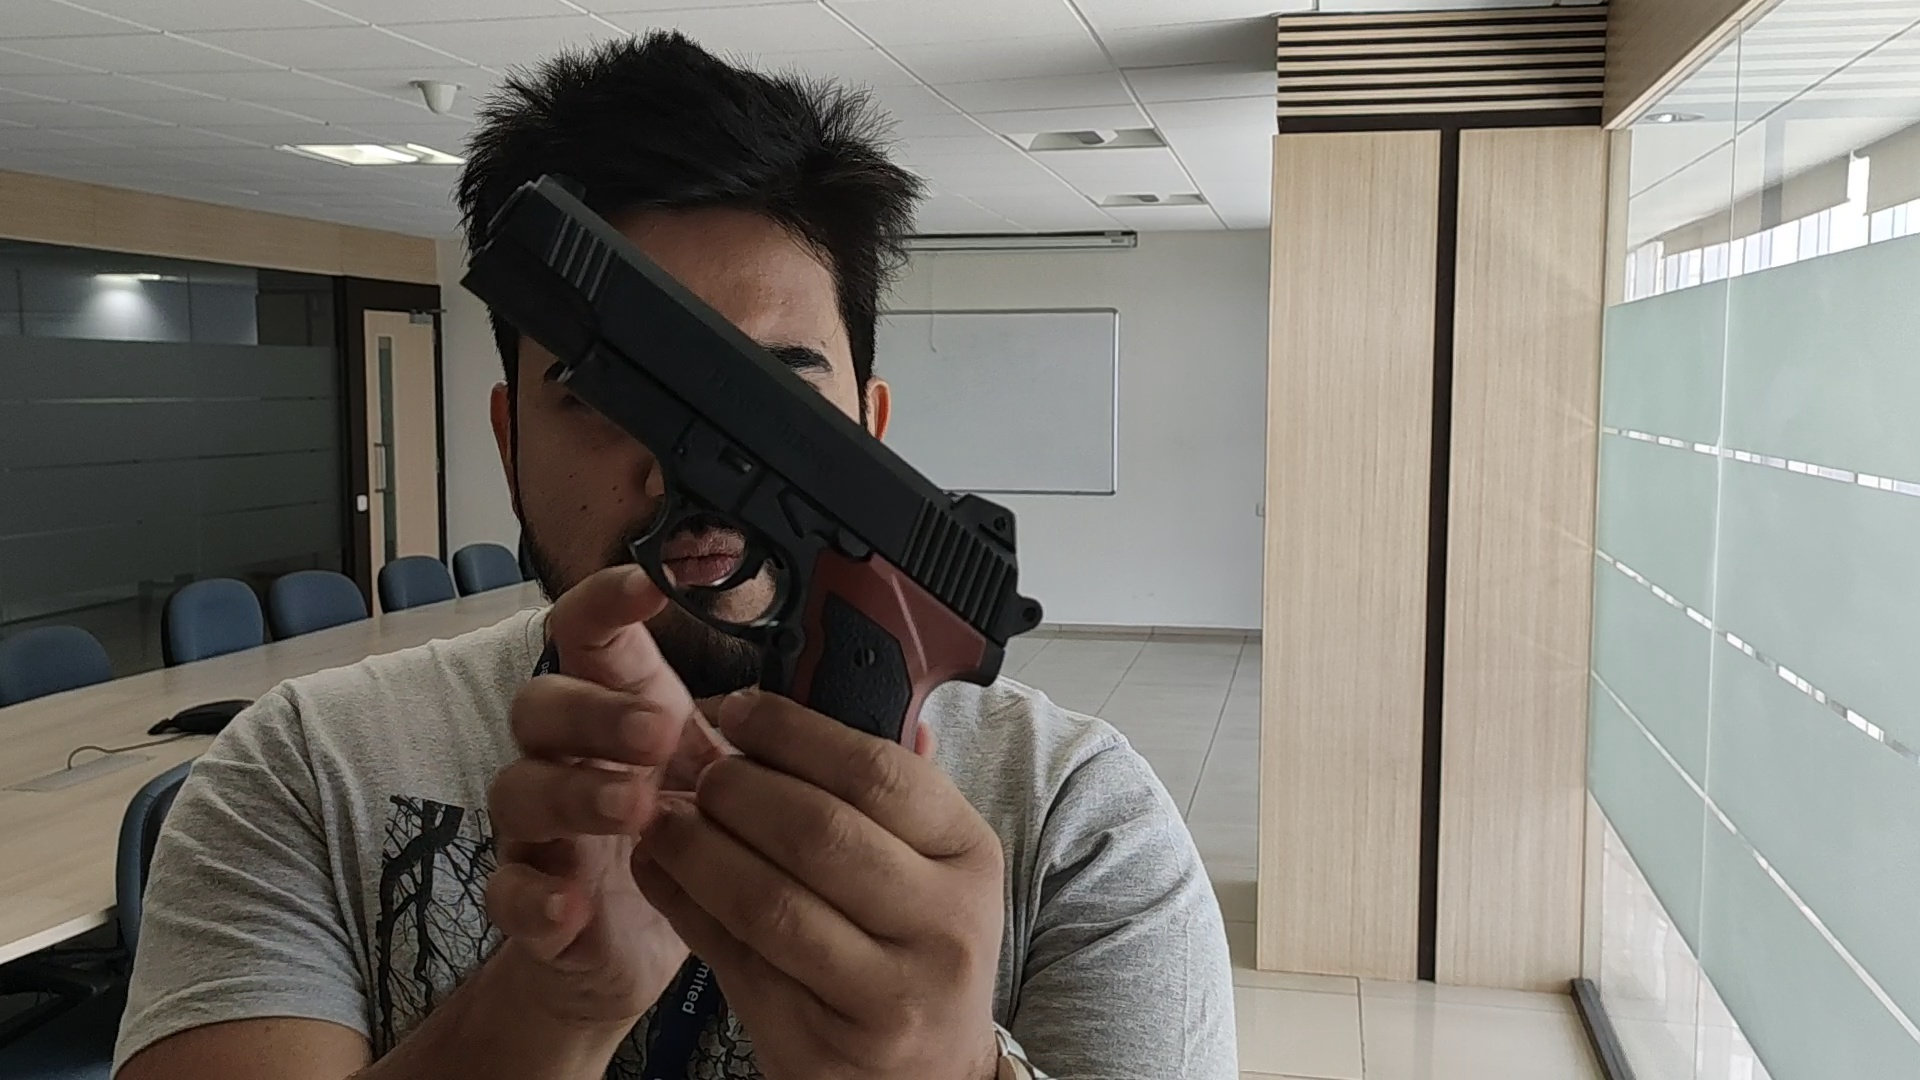gun: (458, 170, 1017, 560)
